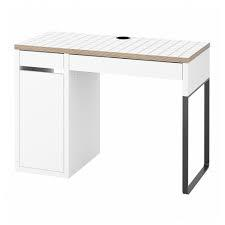desk: (10, 26, 216, 195)
